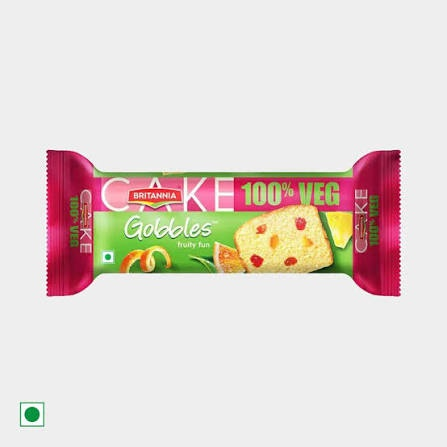Britannaia fruit cake: (24, 140, 404, 340)
